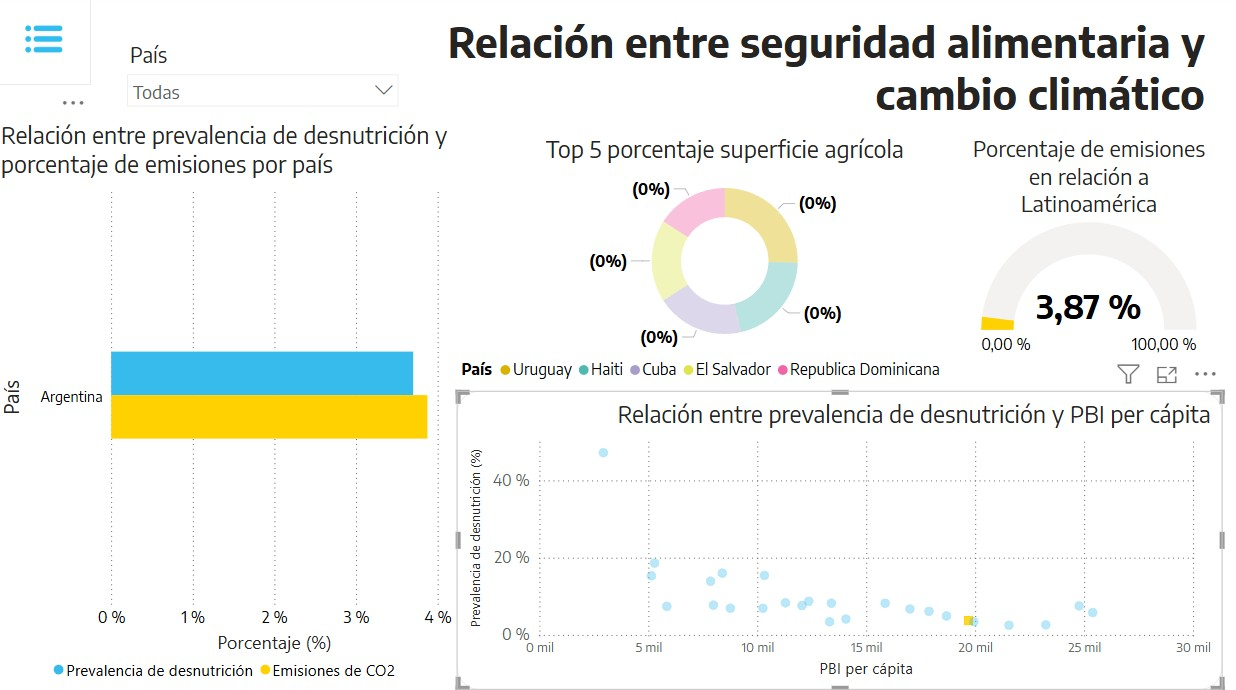

This screenshot's page, from the dashboard's own definition file:
{"tool":"powerbi","page":{"name":"Relación","canvas":[1280,720],"ordinal":3},"visuals":[{"type":"clusteredBarChart","title":"Relación entre prevalencia de desnutrición y porcentaje de emisiones por país","fields":{"Category":["Hoja2.Pais"],"Y":["Avg(worldbank.Desnutri_pais)","Avg(worldbank.Porc.Emis.CO2)"]},"box":[0,131.3,476.1,588.1],"z":0},{"type":"scatterChart","title":"Relación entre prevalencia de desnutrición y PBI per cápita","fields":{"Y":["Hoja2.Desnutri_pais"],"X":["Sum(Sheet1.PBI_percapita)"],"Series":["worldbank.Pais"]},"box":[476.1,410.4,791,309],"z":1000},{"type":"textbox","box":[425.4,19.4,828.4,126.9],"z":2000},{"type":"donutChart","title":"Top 5 porcentaje superficie agrícola","fields":{"Y":["Avg(Hoja2.Agric_sup)"],"Category":["Hoja2.Pais"]},"box":[476.1,146.3,553.7,264.2],"z":3000},{"type":"gauge","title":"Porcentaje de emisiones en relación a Latinoamérica","fields":{"Y":["Avg(Hoja2.Porc.Emis.CO2)"]},"box":[1003,146.3,250.7,237.3],"z":4000},{"type":"slicer","fields":{"Values":["worldbank.Pais"]},"box":[125.7,44.3,300,77.1],"z":5000},{"type":"image","box":[0,0,98.6,95.7],"z":6000}]}

Visuals, with their boxes on the page's 1280x720 design canvas (x1, y1, x2, y2). These are canvas units, not pixel positions in the 1236x690 screenshot, which may show the page scaled, cropped or inside an application window:
"Relación entre prevalencia de desnutrición y porcentaje de emisiones por país" clusteredBarChart: (0,131,476,719)
"Relación entre prevalencia de desnutrición y PBI per cápita" scatterChart: (476,410,1267,719)
textbox: (425,19,1254,146)
"Top 5 porcentaje superficie agrícola" donutChart: (476,146,1030,410)
"Porcentaje de emisiones en relación a Latinoamérica" gauge: (1003,146,1254,384)
slicer - worldbank.Pais: (126,44,426,121)
image: (0,0,99,96)
